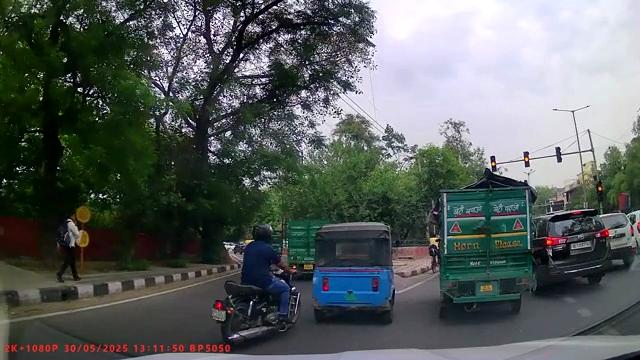motorcycle_with_helmet: (207, 219, 304, 349)
